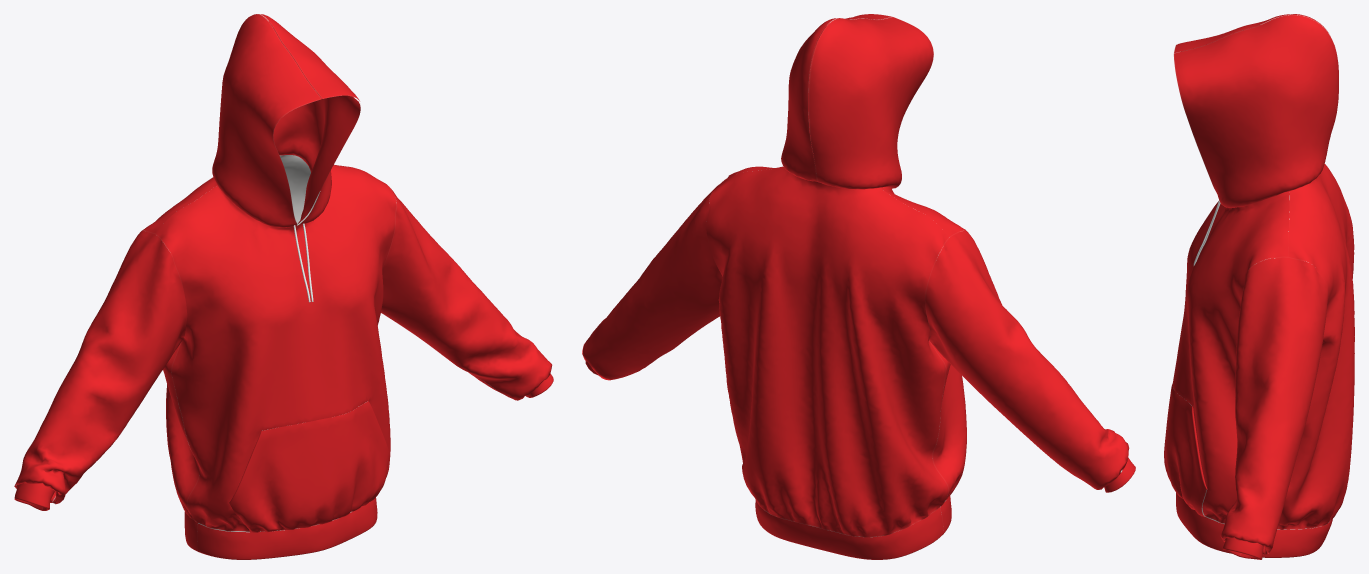
Rendered from hoodie_compression_0.glb.
3 renders of one model, left to right at view 1: azimuth 30°, elevation 25°; view 2: azimuth 150°, elevation 25°; view 3: azimuth 270°, elevation 25°, orthographic.
Parts seen in each view (by area): view 1: body_out_front, sleeve_out_right, sleeve_out_left, pocket_out, cap_out_right, band_out, cap_in_left, body_out_back, cap_out_left, body_in_back, cuff_out_right; view 2: body_out_back, sleeve_out_right, cap_out_right, sleeve_out_left, band_out, body_out_front, cap_out_left; view 3: cap_out_left, sleeve_out_left, body_out_front, body_out_back, pocket_out, band_out, cap_out_right, cuff_out_left.
Boxes of the visible parts, x1,y1,x2,y2 form: body_out_front: (155,165,396,531); sleeve_out_right: (14,230,187,504); sleeve_out_left: (381,188,552,400); pocket_out: (229,401,389,532); cap_out_right: (212,14,321,227); band_out: (184,497,377,559); cap_in_left: (269,22,360,224); body_out_back: (142,164,353,522); cap_out_left: (258,14,359,225); body_in_back: (279,155,319,224); cuff_out_right: (14,483,54,510); body_out_back: (706,166,949,537); sleeve_out_right: (925,230,1129,489); cap_out_right: (808,17,933,189); sleeve_out_left: (582,176,728,380); band_out: (755,495,951,559); body_out_front: (723,166,966,499); cap_out_left: (781,14,892,182); cap_out_left: (1173,15,1338,208); sleeve_out_left: (1220,257,1328,554); body_out_front: (1172,191,1289,523); body_out_back: (1277,164,1354,529); pocket_out: (1164,384,1207,516); band_out: (1176,492,1332,557); cap_out_right: (1174,14,1334,53); cuff_out_left: (1222,538,1263,559).
Bounding box in the file's own units: 1.2 × 1.09 × 0.3693.
16 materials, 12 textured.
